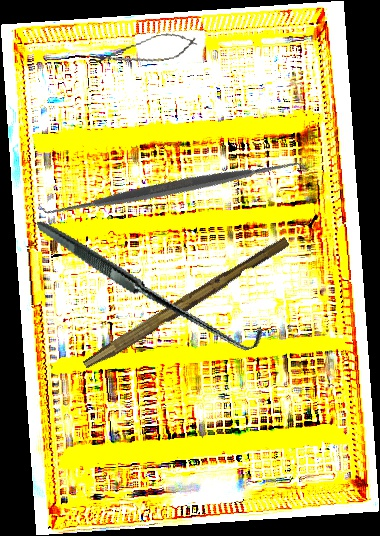Hook Surgical: (36, 164, 267, 402)
Micro Scissor: (89, 28, 200, 74)
Scalpel Handle: (82, 231, 291, 377)
Spatula Surgical: (38, 51, 310, 325)
